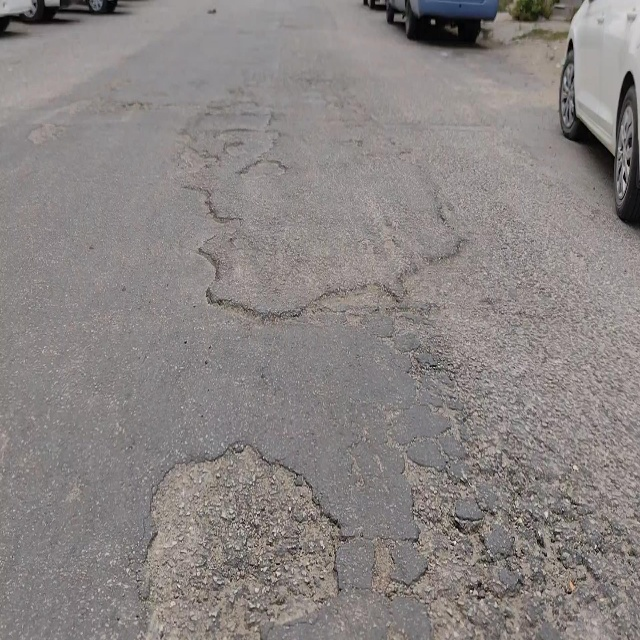pothole: (139, 423, 328, 640)
